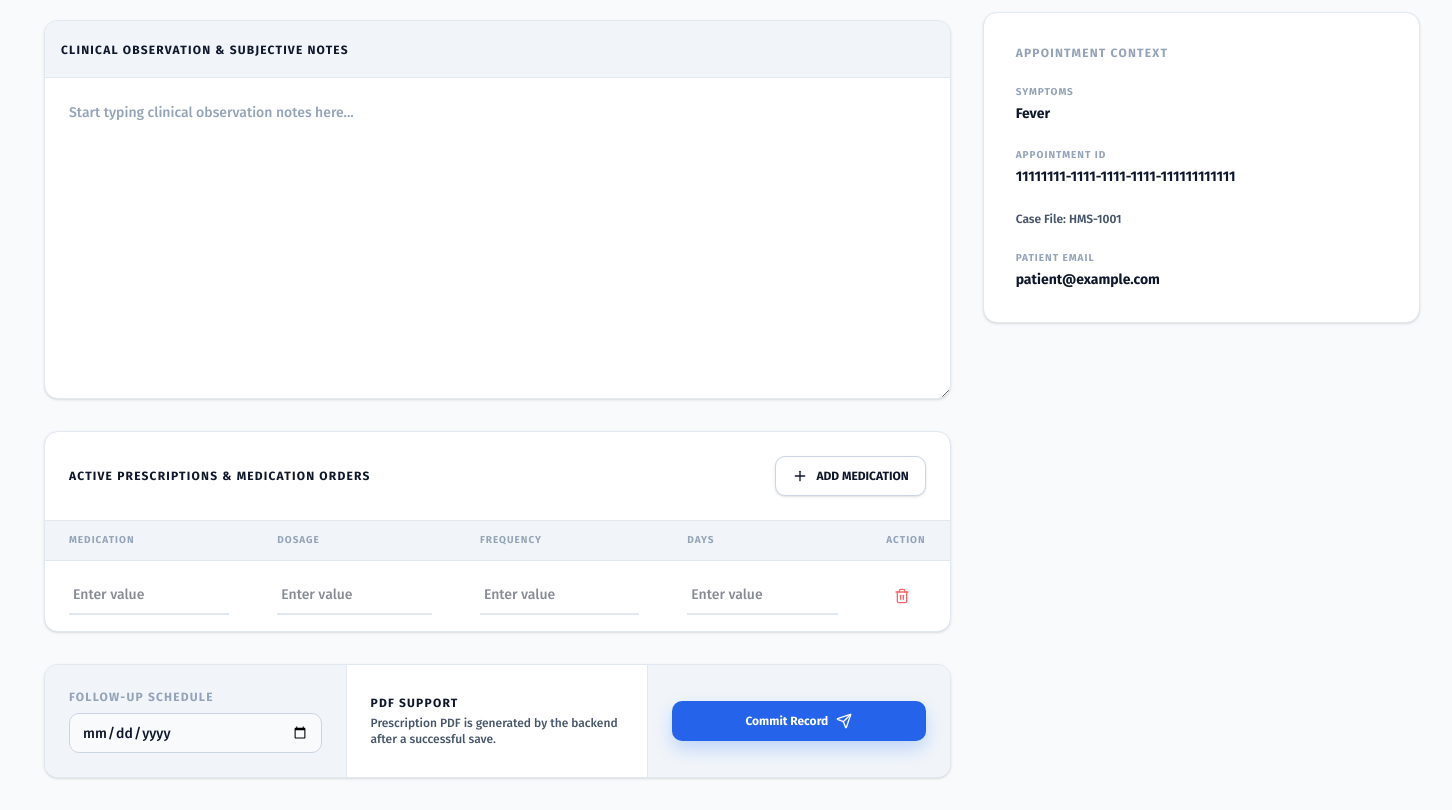
MedicalRecordEditorPage › blocks submit until diagnosis is present
(page scrolled)
Click the button "Commit Record": (799, 721) [672,701,926,741]
(page scrolled)
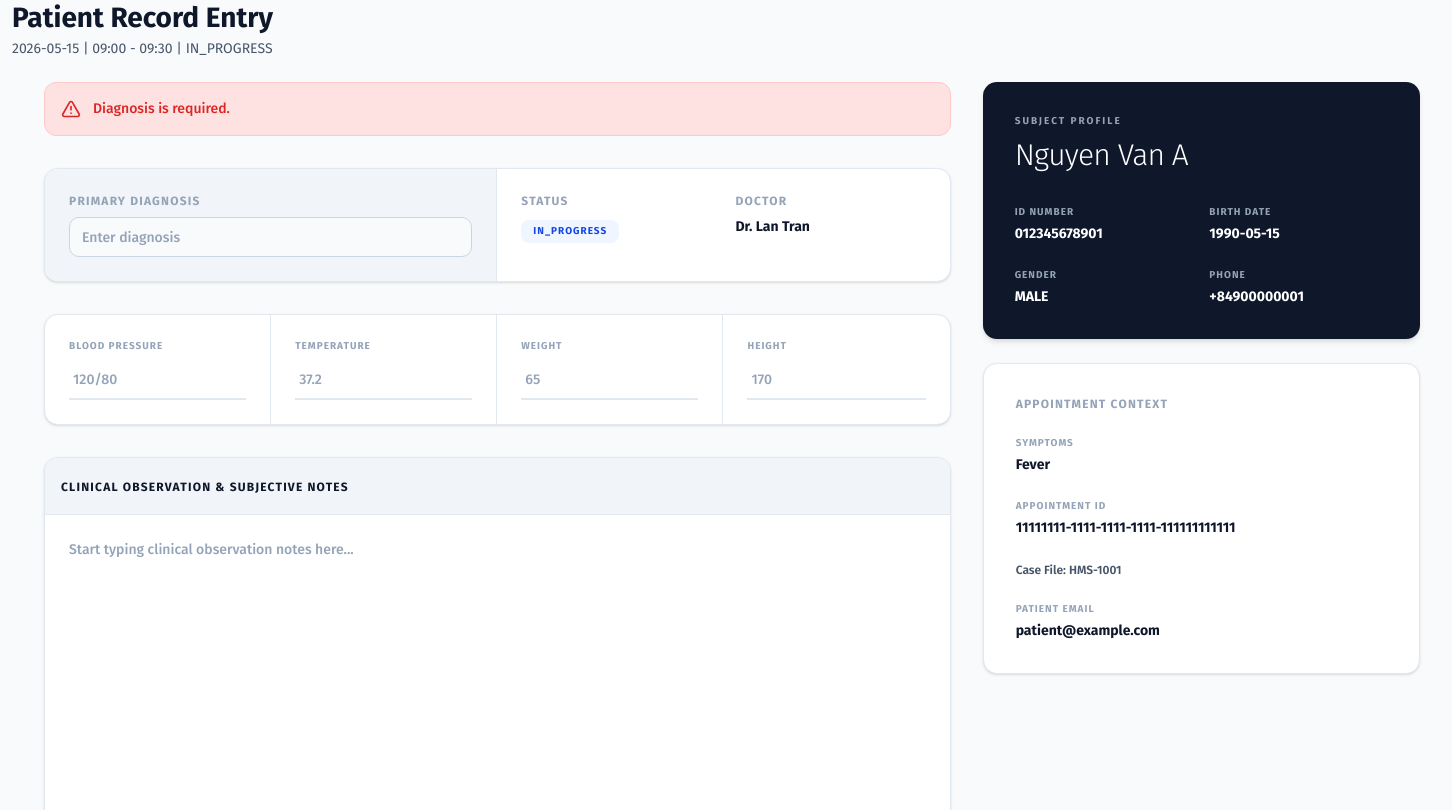
Now the message shows "Diagnosis is required", box [93,100,230,117]
